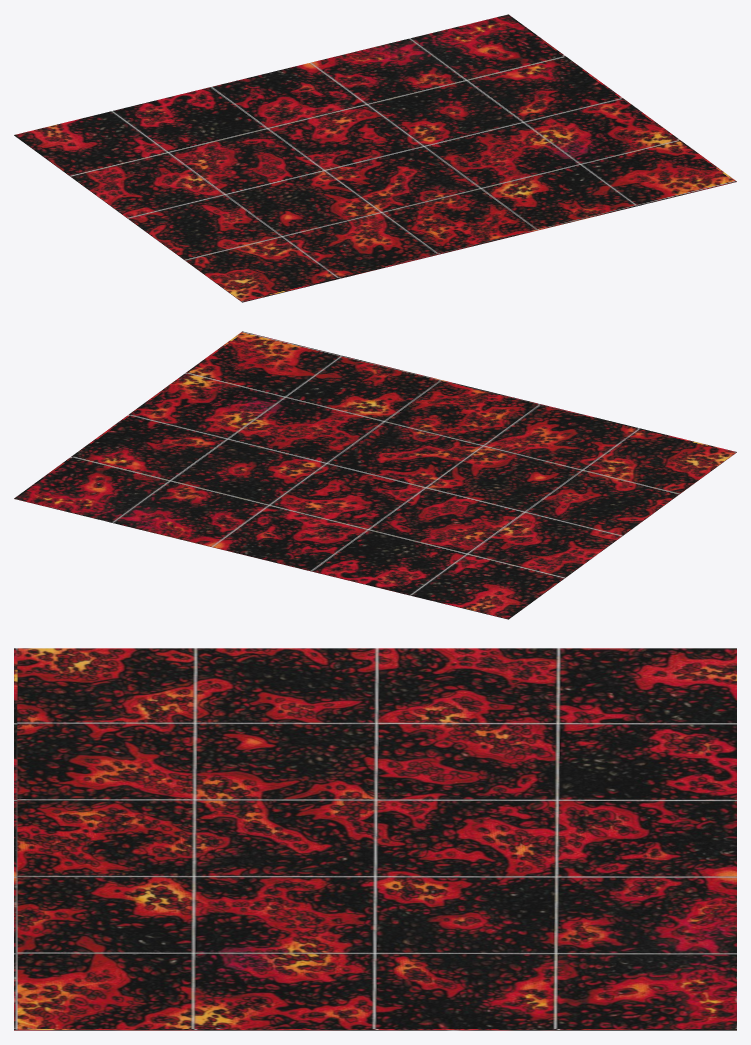
Rendered from underlays.glb.
The picture shows the model from 3 angles, top to bottom: view 1: azimuth 30°, elevation 25°; view 2: azimuth 150°, elevation 25°; view 3: azimuth 270°, elevation 25°; orthographic projection. The views are drawn at different scales.
Visible parts, largest first — view 1: lava; view 2: lava; view 3: lava.
Boxes of the visible parts, left/top/right/bottom form: lava: left=14, top=14, right=736, bottom=302; lava: left=14, top=331, right=736, bottom=619; lava: left=14, top=648, right=736, bottom=1030.
Bounding box in the file's own units: 16 × 0.0125 × 12.8.
4 materials, 4 textured.
